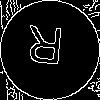R: (25, 25, 65, 75)
